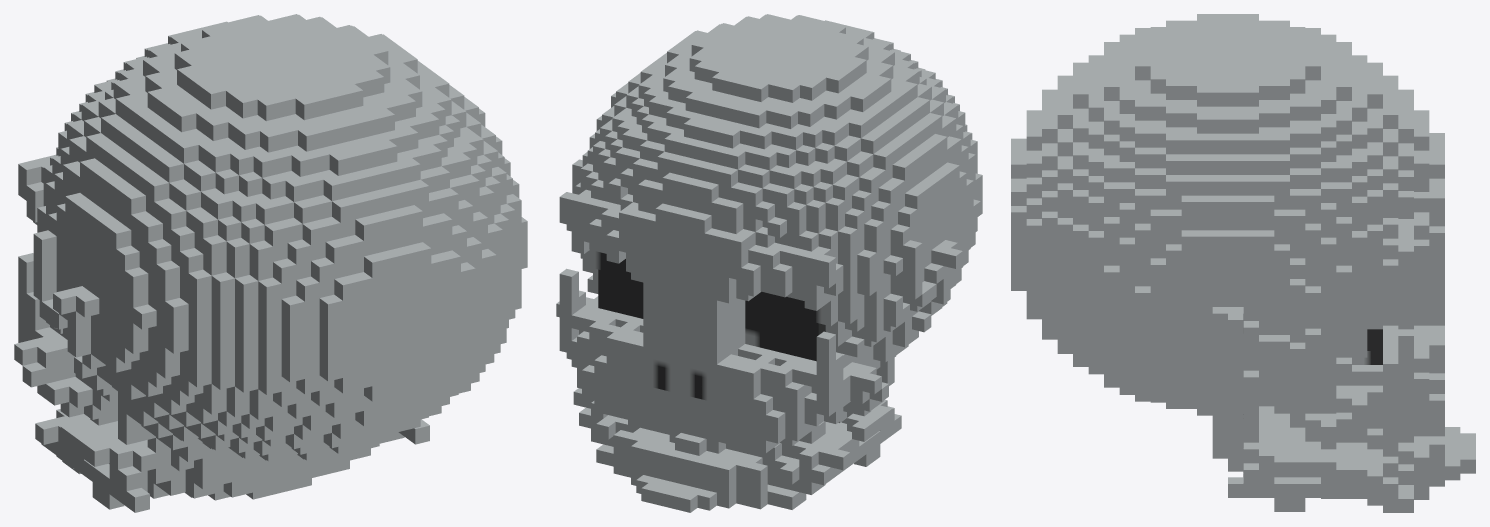
The model's file is skull.fbx.
3 views of the same model, side by side, from view 1: azimuth 30°, elevation 25°; view 2: azimuth 150°, elevation 25°; view 3: azimuth 270°, elevation 25° (orthographic). The views are drawn at different scales.
Visible parts, largest first — view 1: Matrix; view 2: Matrix; view 3: Matrix.
Part boxes in pixels (bbox=[...]): Matrix: bbox=[14, 14, 527, 512]; Matrix: bbox=[556, 14, 982, 512]; Matrix: bbox=[1011, 14, 1475, 512].
Size of the model in its own units: 30 by 29 by 30.
Materials: 1 (1 with a texture image).
